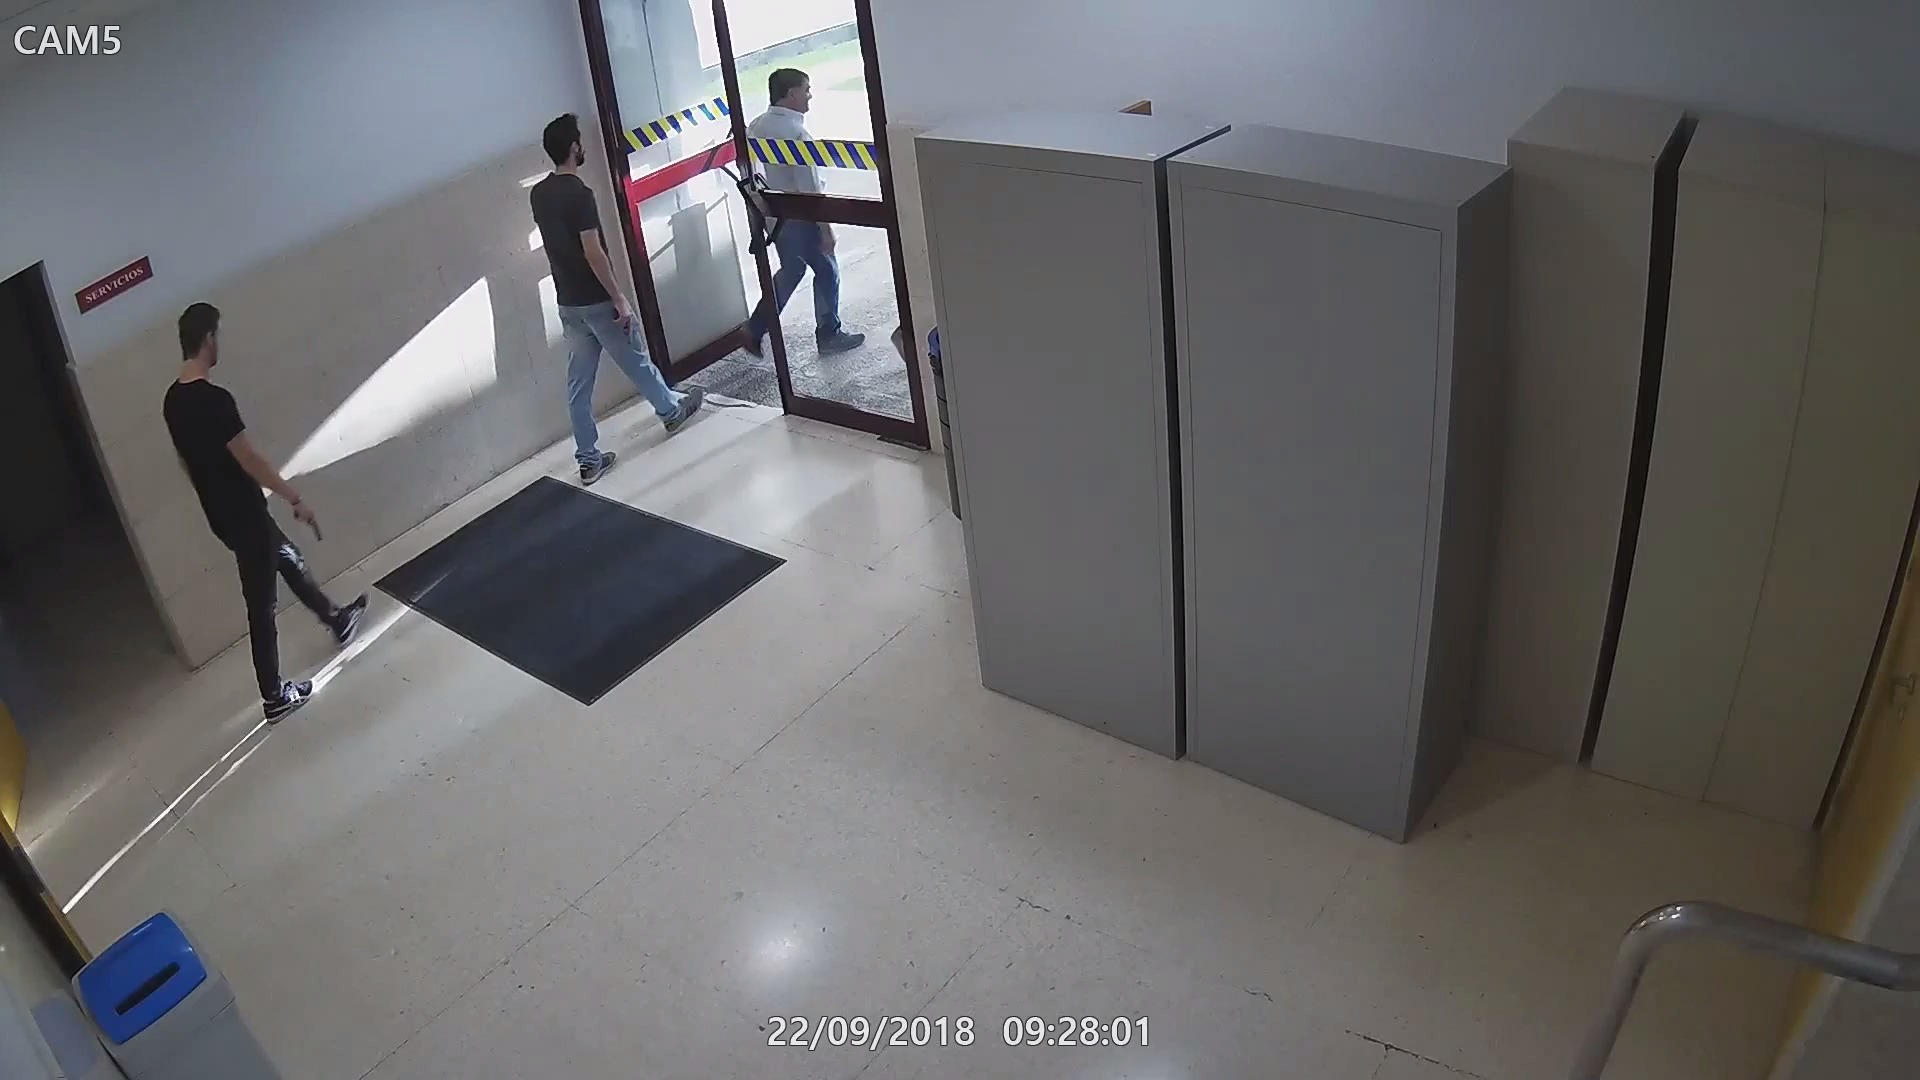Handgun: (287, 498, 328, 545), (609, 294, 641, 347)
